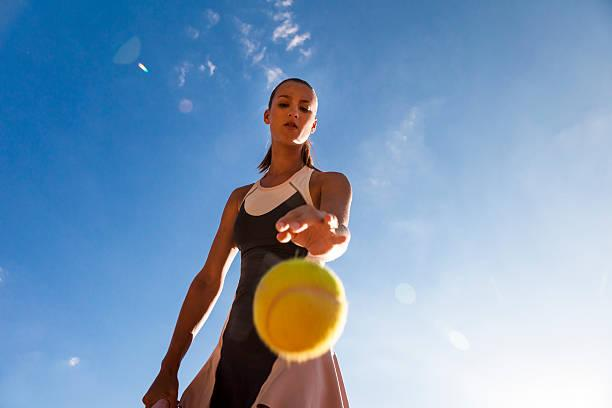ball_tennis: (254, 257, 348, 360)
